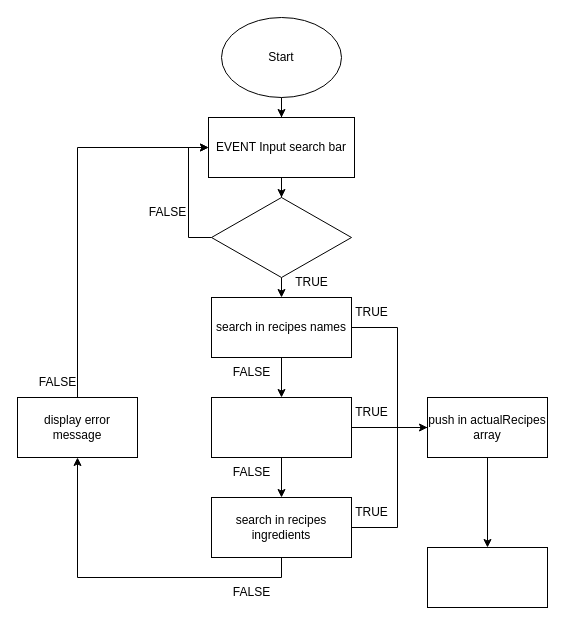
Some shapes in this 565 by 625 pixel diagram are drawn without their labels. Each missing label, with the centre of its shape:
"display actualRecipes" belongs at point (487, 577).
"Input.length =< 3" belongs at point (281, 237).
"search in recipes descriptions" belongs at point (281, 427).
